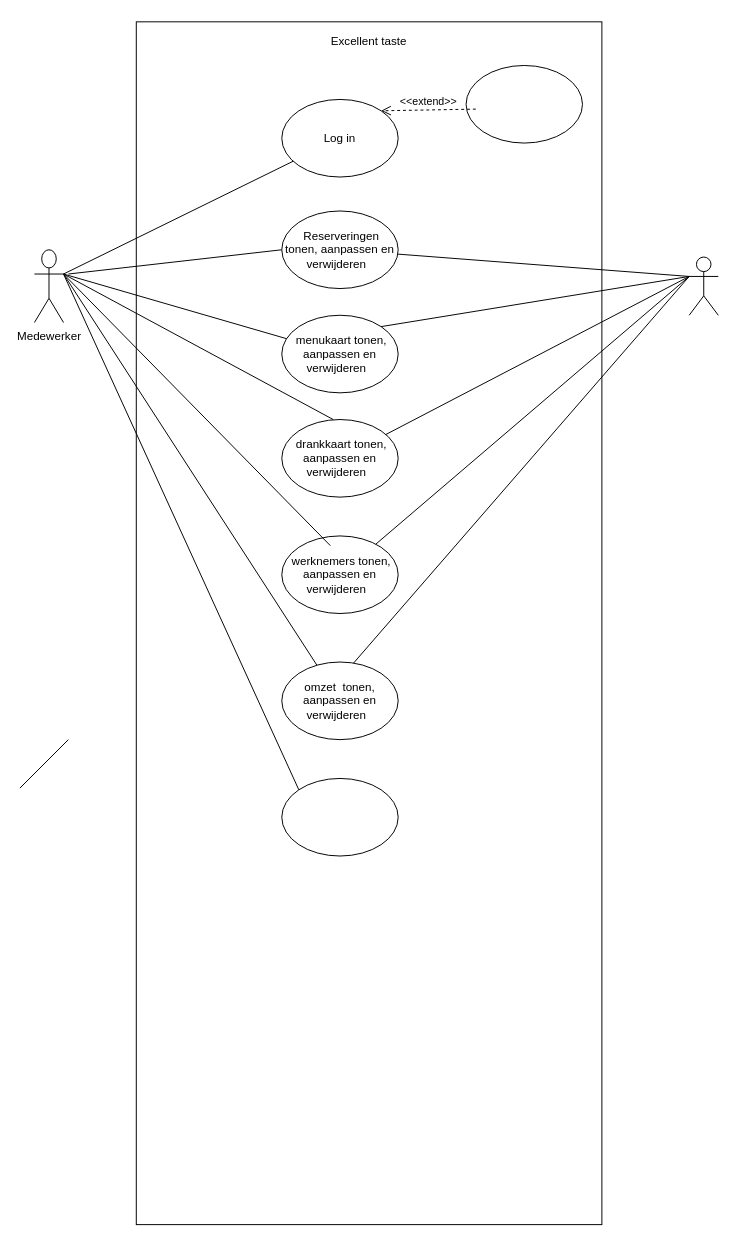
Image size: 743x1242. Some labels were removed from this diagram. Each missing label, with the centre of its shape:
"bon tonen, aanpassen en verwijderen" goes at [339,816].
"Display login error" goes at [523,104].
"Systeem" goes at [703,285].
